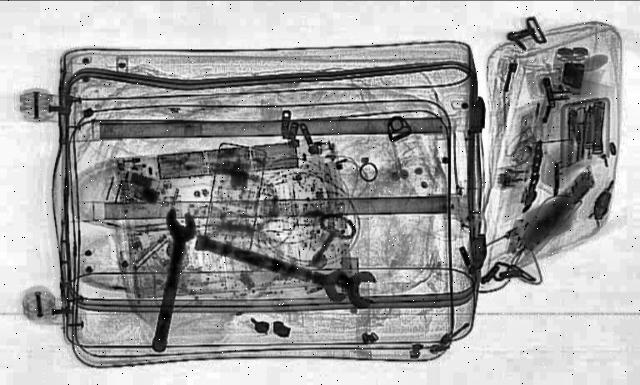Wrench: (180, 230, 368, 306), (145, 212, 201, 352)
